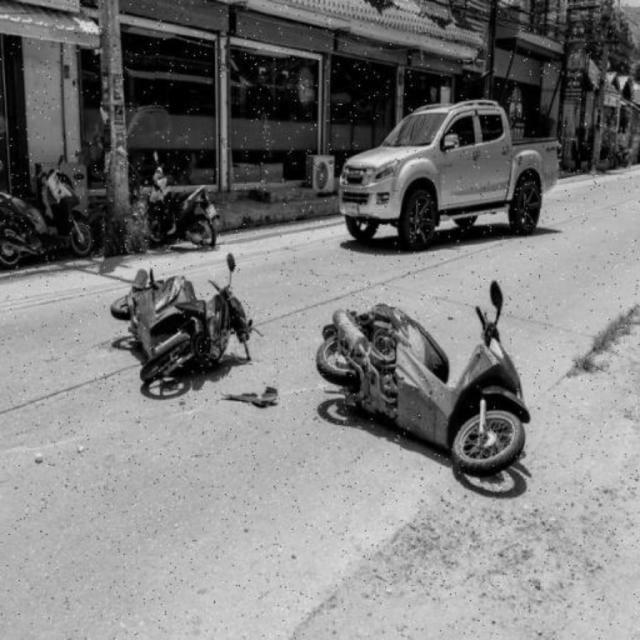vehicle: (320, 292, 538, 466), (348, 101, 562, 245), (117, 266, 248, 394), (0, 158, 84, 271), (138, 163, 219, 253)
